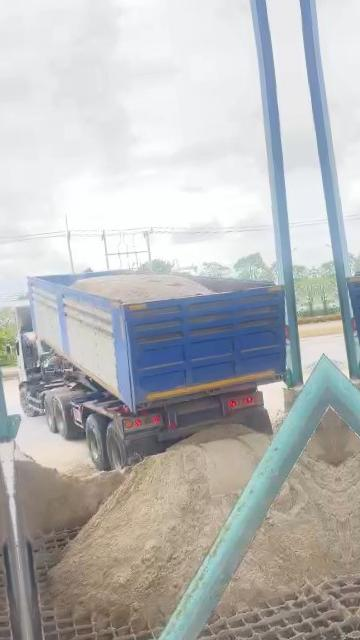sand: (51, 425, 267, 627), (220, 454, 347, 611), (16, 455, 124, 537), (72, 272, 213, 303), (308, 407, 337, 466)
